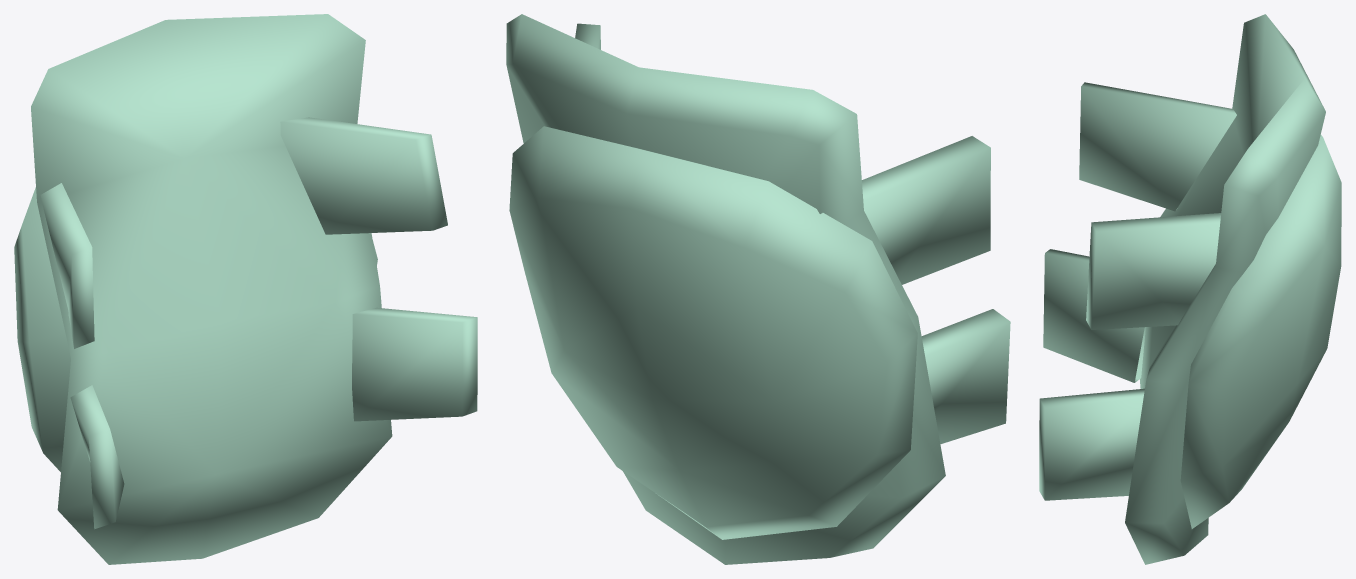
File: Leg.fbx
3 views of the same model, side by side, from view 1: azimuth 30°, elevation 25°; view 2: azimuth 150°, elevation 25°; view 3: azimuth 270°, elevation 25° (orthographic). The views are drawn at different scales.
Parts seen in each view (by area): view 1: Stalker4; view 2: Stalker4; view 3: Stalker4.
Boxes of the visible parts, box(x1,y1,x2,y2) form: Stalker4: box(14, 14, 477, 564); Stalker4: box(506, 14, 1010, 564); Stalker4: box(1039, 14, 1341, 564).
Bounding box in the file's own units: 16.97 × 20.23 × 11.65.
